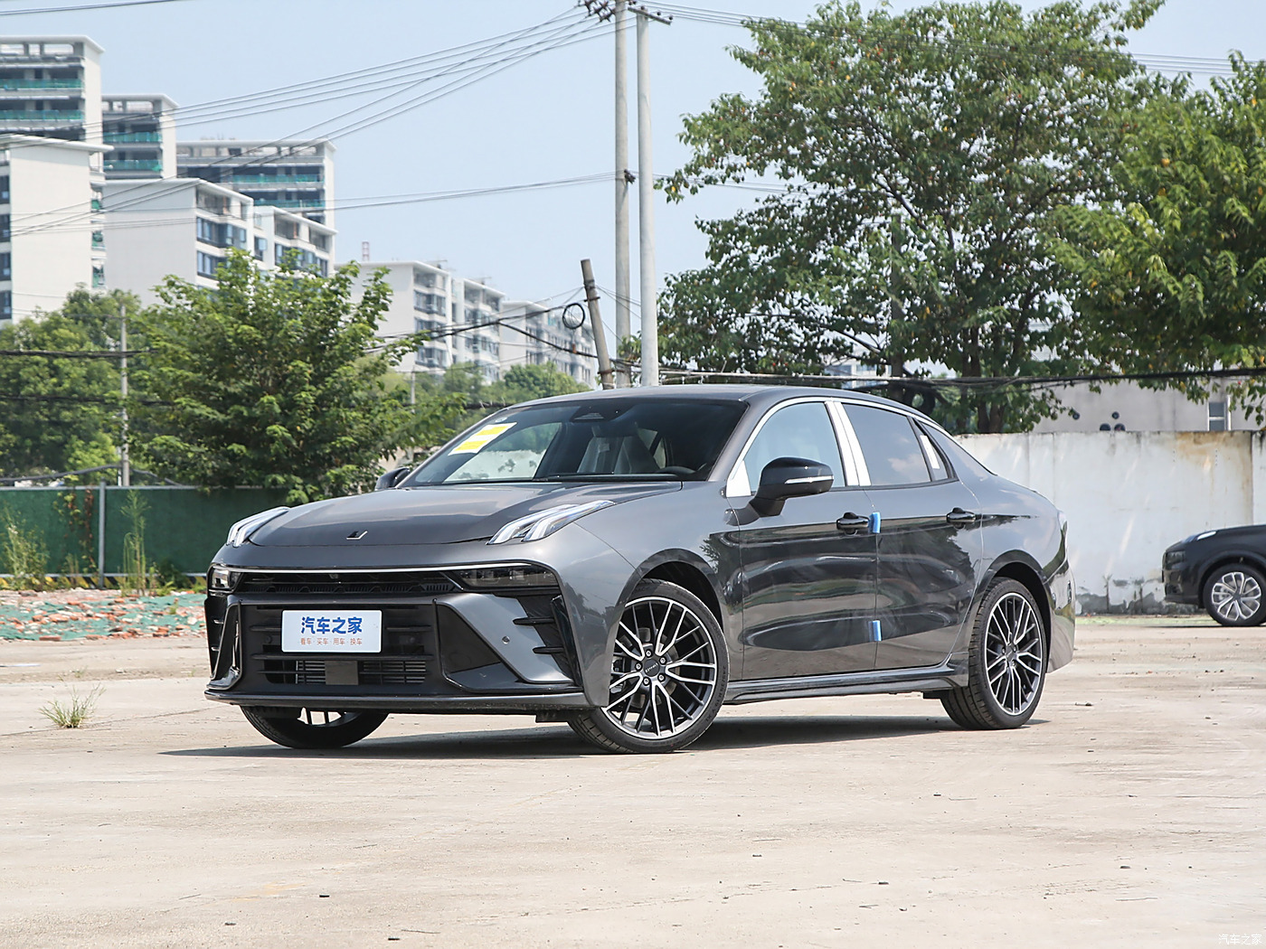LINK&CO: (347, 531, 367, 539)
